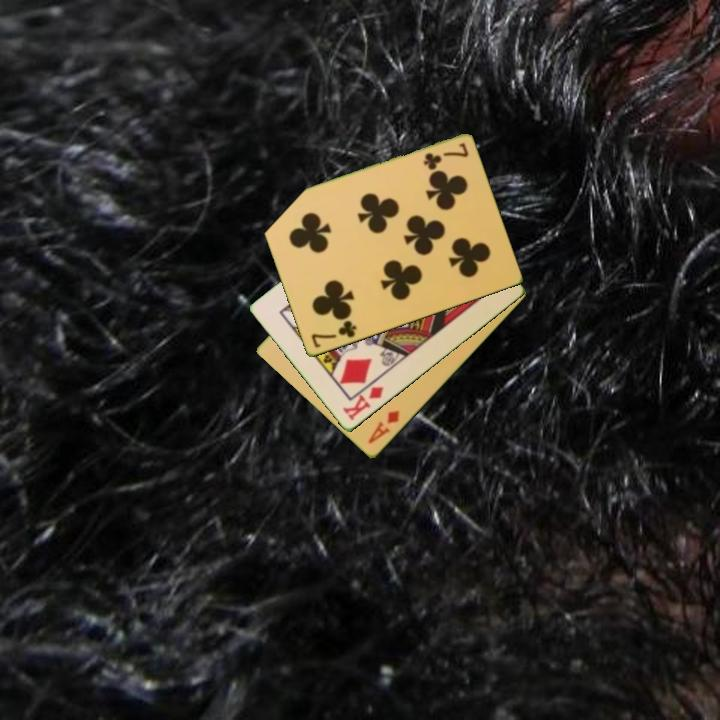7c: (308, 317, 360, 351), (420, 139, 471, 172)
Ad: (364, 407, 403, 447)
Kd: (339, 383, 386, 424)
